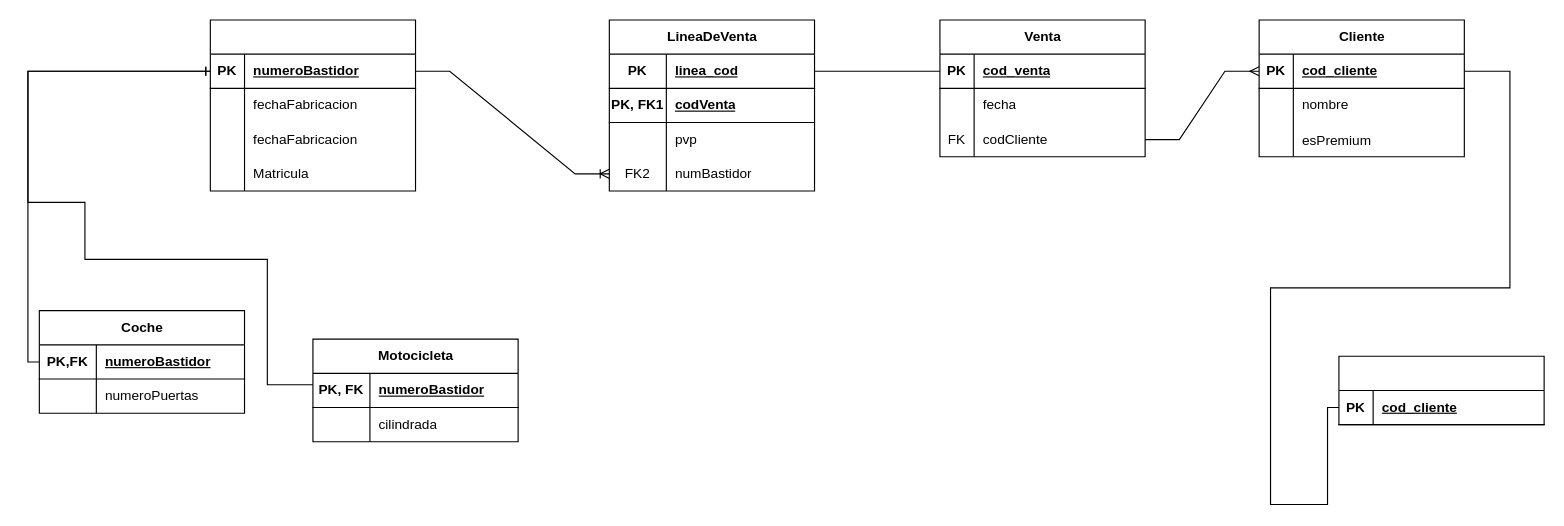
Some shapes in this 1564 by 526 pixel diagram are drawn without their labels. The box of each missing label's shape, as (x1, y1, x2, y2) in pixels:
ClientePremium: (1338, 355, 1544, 425)
Vehiculo: (209, 19, 416, 191)
